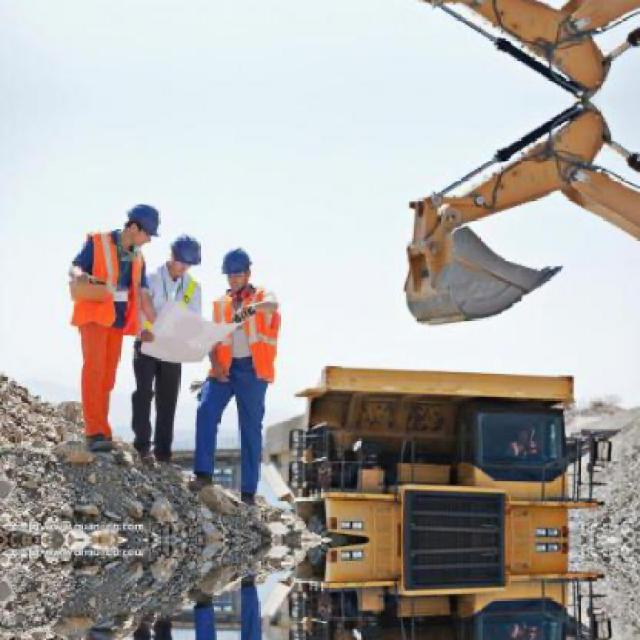Reflective-Jacket: (65, 229, 152, 345), (204, 283, 290, 389), (135, 266, 208, 365)
Safety-Helmet: (114, 197, 168, 243), (162, 230, 206, 272), (214, 242, 260, 282)
